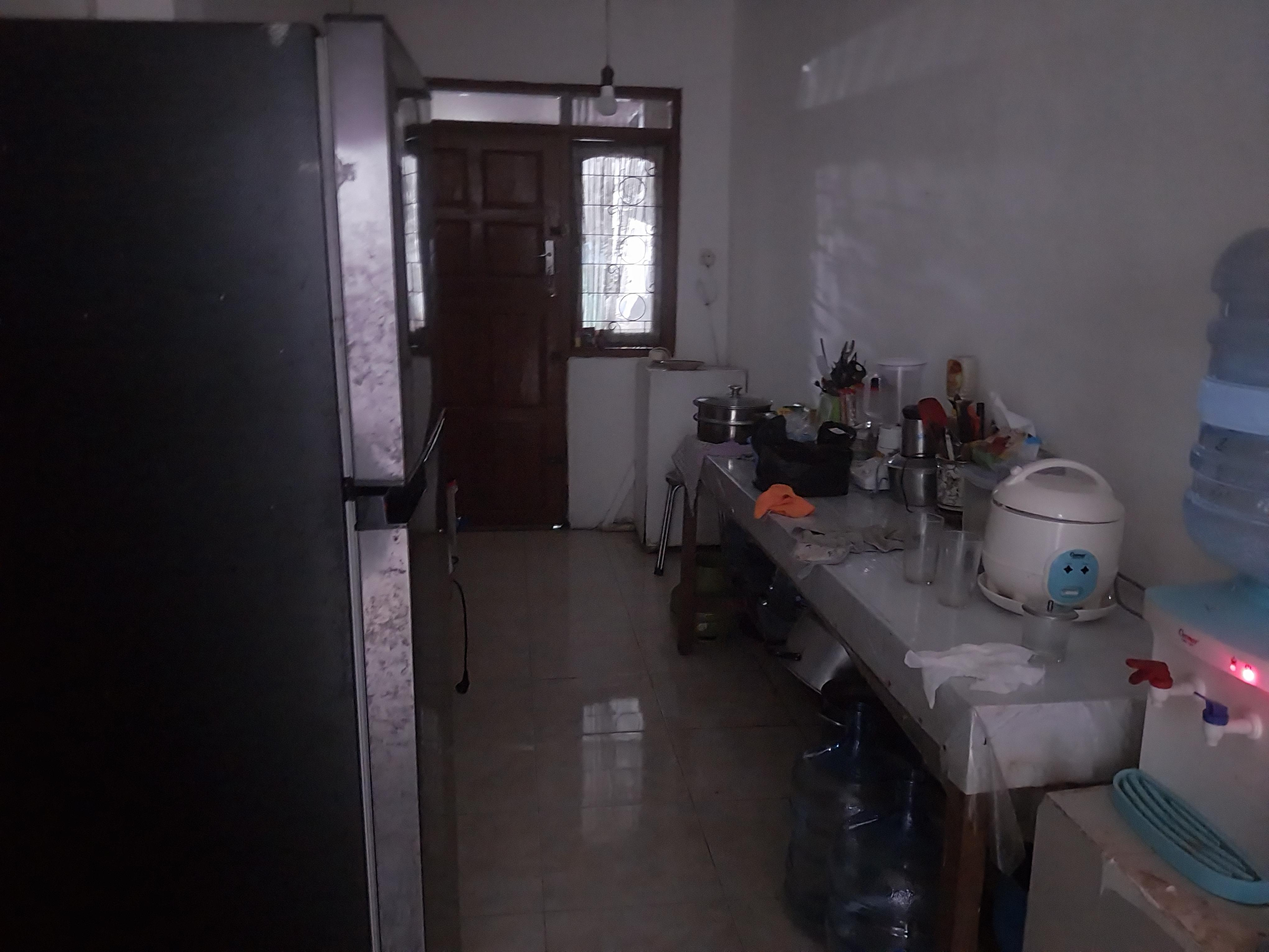plate: (660, 360, 704, 370)
refrigerator: (0, 14, 463, 952)
table: (690, 314, 1243, 952), (677, 486, 702, 653)
towel: (903, 633, 1047, 711), (792, 524, 903, 565), (753, 483, 814, 519)
